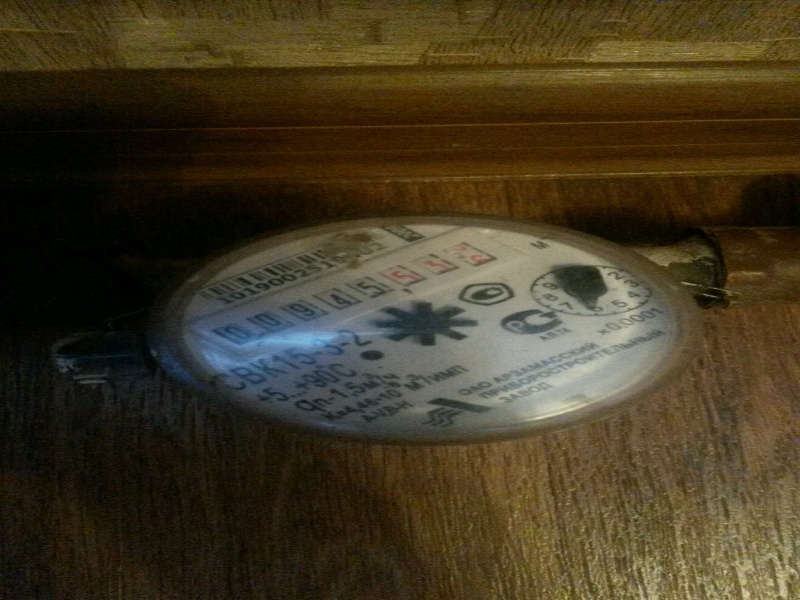dial: (167, 255, 488, 346)
